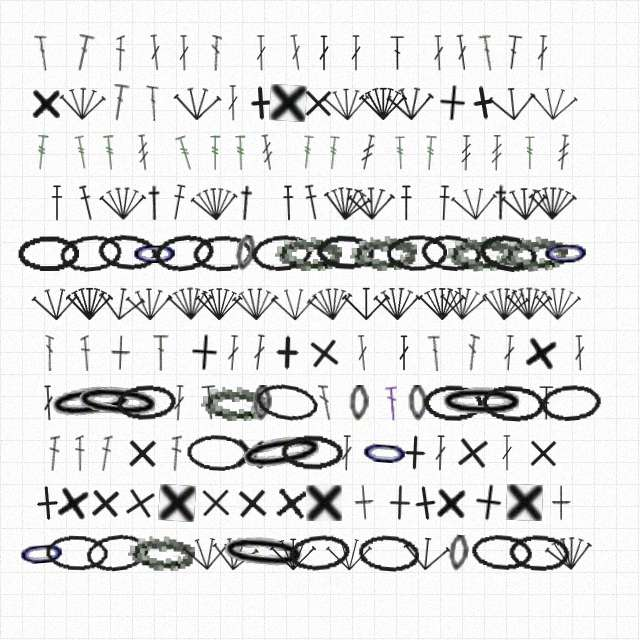chain: (235, 428, 329, 478), (45, 380, 138, 425), (217, 531, 310, 575), (72, 381, 164, 424), (437, 384, 527, 421), (253, 380, 320, 425), (476, 230, 541, 276), (84, 531, 150, 574), (152, 231, 217, 274), (58, 232, 124, 274), (500, 233, 569, 273), (349, 233, 418, 272), (287, 532, 351, 574), (419, 232, 484, 273), (96, 232, 160, 273), (250, 232, 314, 273), (539, 382, 603, 423), (470, 532, 534, 573), (480, 383, 545, 423), (446, 234, 514, 272), (357, 533, 420, 573), (128, 534, 195, 571), (115, 383, 178, 422), (186, 433, 249, 472), (508, 533, 571, 572), (275, 235, 342, 271), (201, 385, 268, 421), (45, 534, 108, 572), (315, 233, 376, 272), (280, 434, 343, 471), (192, 234, 253, 272), (386, 234, 447, 271), (423, 384, 484, 421), (17, 235, 79, 271), (16, 533, 68, 573), (359, 433, 411, 472), (541, 234, 591, 271), (130, 235, 180, 271), (233, 234, 258, 272), (447, 534, 470, 572), (252, 385, 272, 421), (349, 385, 369, 421), (408, 385, 428, 421)
double: (72, 34, 95, 72), (109, 84, 130, 121), (504, 34, 523, 71), (201, 384, 219, 421), (34, 34, 51, 71), (478, 34, 495, 71), (288, 34, 304, 71), (454, 34, 470, 71), (251, 334, 267, 371), (464, 334, 480, 371), (153, 335, 169, 371), (148, 34, 163, 71), (390, 35, 405, 71), (355, 335, 370, 371), (427, 335, 442, 371), (539, 385, 554, 421), (318, 384, 332, 421), (146, 85, 160, 121), (226, 335, 240, 371), (502, 335, 516, 371), (172, 385, 186, 421), (385, 385, 399, 421), (99, 435, 113, 471), (209, 35, 222, 71), (432, 35, 445, 71), (536, 35, 549, 71), (573, 335, 586, 371), (42, 385, 55, 421), (340, 435, 353, 471), (434, 435, 447, 471), (178, 35, 190, 71), (255, 35, 267, 71), (318, 35, 330, 71), (350, 35, 362, 71), (227, 85, 239, 121), (80, 335, 92, 371), (398, 335, 410, 371), (48, 435, 60, 471), (170, 435, 182, 471), (501, 435, 513, 471), (75, 435, 85, 471), (116, 35, 125, 71), (45, 335, 54, 371)
fan: (321, 182, 373, 224), (209, 532, 261, 574), (96, 282, 147, 324), (305, 282, 356, 324), (543, 532, 595, 573), (487, 83, 538, 123), (189, 183, 240, 223), (480, 283, 531, 323), (401, 533, 452, 573), (529, 83, 579, 122), (438, 283, 488, 322), (181, 533, 231, 572), (450, 183, 499, 222), (173, 84, 222, 122), (322, 84, 371, 122), (386, 84, 435, 122), (500, 184, 549, 222), (31, 284, 80, 322), (125, 284, 174, 322), (231, 284, 280, 322), (270, 284, 319, 322), (58, 84, 107, 121), (347, 184, 396, 221), (528, 184, 577, 221), (166, 284, 215, 321), (99, 184, 147, 221), (505, 284, 553, 321), (534, 284, 582, 321), (359, 85, 407, 121), (195, 285, 243, 321), (342, 285, 390, 321), (373, 285, 421, 321), (418, 285, 466, 321), (269, 535, 317, 571), (325, 535, 373, 571), (66, 285, 113, 321)
half_double: (234, 184, 258, 222), (490, 184, 512, 221), (76, 184, 97, 222), (144, 185, 165, 221), (168, 184, 188, 221), (302, 184, 322, 221), (281, 185, 296, 221), (50, 185, 64, 221), (399, 185, 413, 221), (437, 185, 451, 221)
single: (119, 482, 161, 524), (463, 82, 504, 123), (304, 333, 344, 373), (271, 483, 311, 523), (405, 483, 445, 523), (522, 332, 561, 373), (54, 482, 93, 523), (453, 433, 492, 472), (242, 84, 280, 122), (269, 84, 307, 122), (28, 484, 66, 522), (86, 484, 124, 522), (158, 484, 196, 522), (233, 484, 271, 522), (269, 334, 306, 371), (396, 434, 433, 471), (197, 484, 234, 521), (381, 484, 418, 521), (506, 484, 543, 521), (233, 434, 268, 472), (300, 85, 336, 121), (124, 435, 160, 471), (525, 435, 561, 471), (306, 485, 342, 521), (434, 484, 469, 521), (472, 483, 504, 522), (30, 85, 63, 121), (437, 84, 467, 122), (189, 334, 219, 371), (354, 484, 375, 521), (111, 335, 131, 371), (552, 485, 571, 521)
treble: (174, 134, 197, 172), (358, 134, 377, 171), (73, 134, 91, 171), (259, 134, 276, 171), (102, 134, 118, 171), (34, 134, 49, 171), (136, 134, 151, 171), (300, 134, 315, 171), (556, 134, 571, 171), (326, 135, 341, 171), (423, 135, 438, 171), (234, 135, 247, 171), (394, 135, 407, 171), (490, 135, 503, 171), (209, 135, 221, 171), (460, 135, 472, 171), (524, 135, 536, 171)
